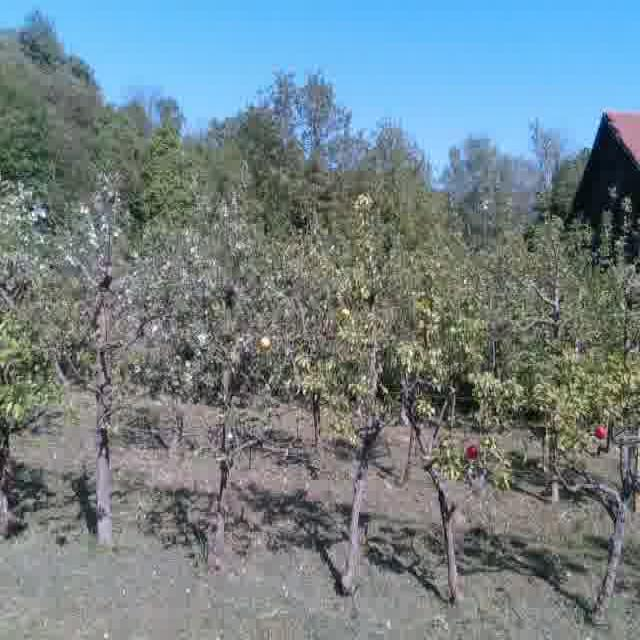red: (595, 421, 609, 444), (465, 444, 477, 459)
yellow: (261, 332, 273, 353)
